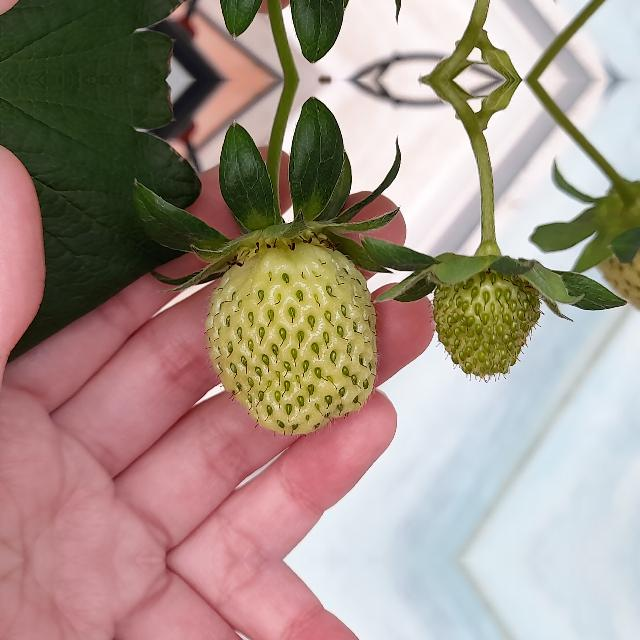Health_25: (204, 238, 376, 434), (432, 244, 542, 386)
